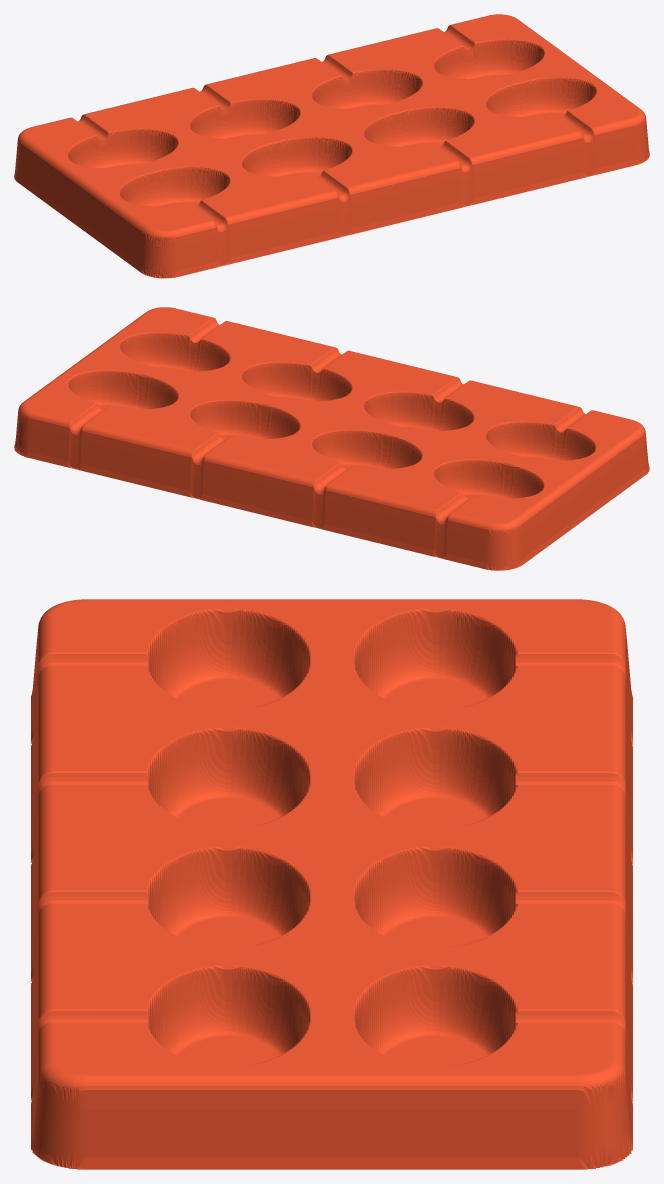
The model's file is mold.glb.
3 renders of one model, top to bottom at view 1: azimuth 30°, elevation 25°; view 2: azimuth 150°, elevation 25°; view 3: azimuth 270°, elevation 25°, orthographic. The views are drawn at different scales.
Parts seen in each view (by area): view 1: geometry_0; view 2: geometry_0; view 3: geometry_0.
Part boxes in pixels (left/top/right/bottom): geometry_0: left=14, top=14, right=649, bottom=278; geometry_0: left=14, top=307, right=649, bottom=570; geometry_0: left=31, top=599, right=632, bottom=1169.
Bounding box in the file's own units: 0.1907 × 0.0155 × 0.0986.
